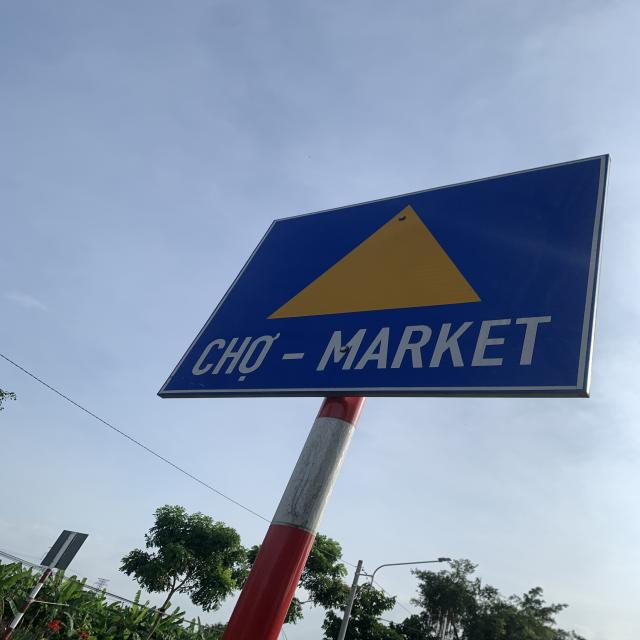Cho_Quay_Xe: (156, 155, 599, 395)
